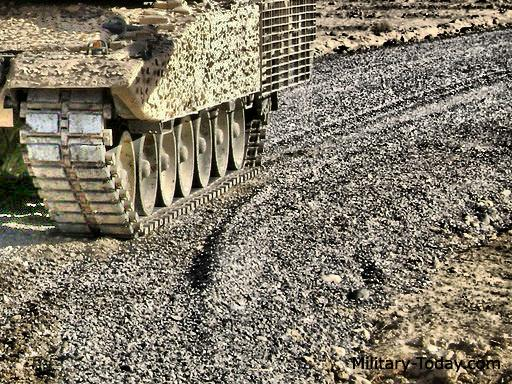tanks: (1, 1, 317, 238)
